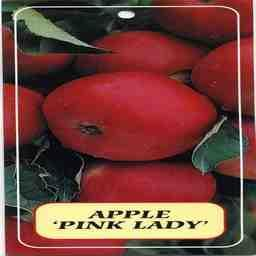apple: (41, 70, 219, 162)
